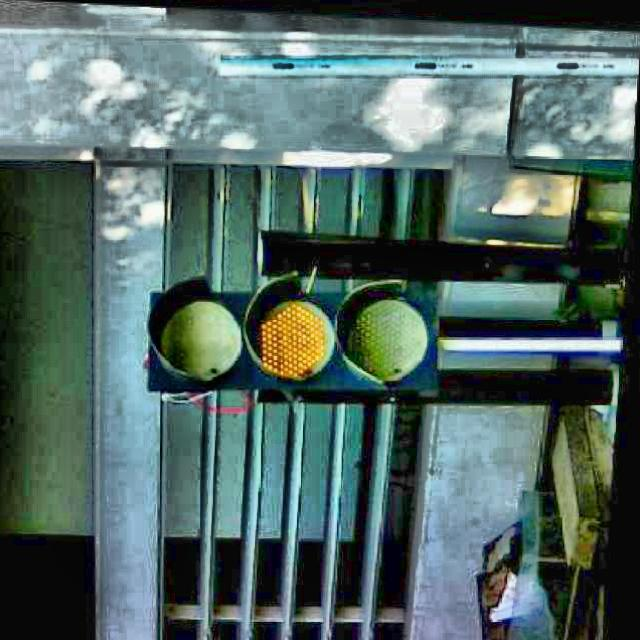yellow: (144, 283, 447, 407)
